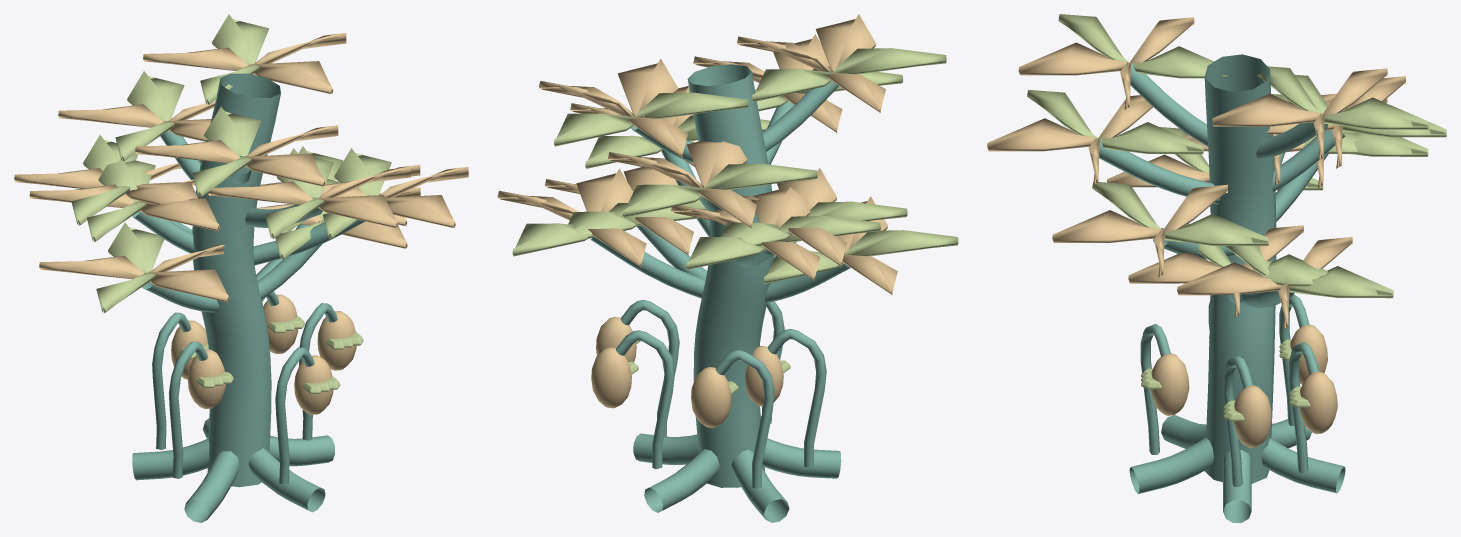
The model's file is bio_canopy_tree_23_far.glb.
The picture shows the model from 3 angles, left to right: view 1: azimuth 30°, elevation 25°; view 2: azimuth 150°, elevation 25°; view 3: azimuth 270°, elevation 25°; orthographic projection. The views are drawn at different scales.
Parts seen in each view (by area): view 1: Buttressed trunk, Broad canopy leaf.035, Broad canopy leaf.015, Broad canopy leaf.010, Broad canopy leaf.020, Broad canopy leaf.005, Broad canopy leaf.045, Broad canopy leaf.036, Broad canopy leaf.025, Broad canopy leaf.021, Broad canopy leaf.031, Broad canopy leaf.030 (+16 smaller); view 2: Buttressed trunk, Broad canopy leaf.035, Broad canopy leaf.015, Broad canopy leaf.030, Broad canopy leaf.016, Broad canopy leaf.031, Broad canopy leaf.036, Broad canopy leaf.040, Broad canopy leaf.005, Broad canopy leaf.006, Broad canopy leaf.021, Broad canopy leaf.046 (+17 smaller); view 3: Buttressed trunk, Broad canopy leaf.035, Broad canopy leaf.015, Broad canopy leaf.025, Broad canopy leaf.010, Broad canopy leaf.011, Broad canopy leaf.026, Broad canopy leaf.040, Broad canopy leaf.016, Broad canopy leaf.036, Broad canopy leaf, Broad canopy leaf.041 (+14 smaller).
Part boxes in pixels (x1=…): Buttressed trunk: x1=132, y1=73, x2=365, y2=522; Broad canopy leaf.035: x1=135, y1=125, x2=338, y2=186; Broad canopy leaf.015: x1=143, y1=33, x2=346, y2=93; Broad canopy leaf.010: x1=208, y1=166, x2=410, y2=227; Broad canopy leaf.020: x1=39, y1=244, x2=229, y2=302; Broad canopy leaf.005: x1=14, y1=160, x2=201, y2=204; Broad canopy leaf.045: x1=29, y1=179, x2=219, y2=231; Broad canopy leaf.036: x1=192, y1=107, x2=261, y2=197; Broad canopy leaf.025: x1=321, y1=166, x2=468, y2=227; Broad canopy leaf.021: x1=96, y1=222, x2=164, y2=312; Broad canopy leaf.031: x1=115, y1=71, x2=184, y2=161; Broad canopy leaf.030: x1=58, y1=100, x2=215, y2=141; Buttressed trunk: x1=590, y1=64, x2=850, y2=522; Broad canopy leaf.035: x1=737, y1=14, x2=885, y2=112; Broad canopy leaf.015: x1=539, y1=58, x2=687, y2=157; Broad canopy leaf.030: x1=608, y1=140, x2=756, y2=228; Broad canopy leaf.016: x1=554, y1=92, x2=748, y2=146; Broad canopy leaf.031: x1=623, y1=163, x2=817, y2=217; Broad canopy leaf.036: x1=752, y1=48, x2=946, y2=101; Broad canopy leaf.040: x1=497, y1=168, x2=646, y2=267; Broad canopy leaf.005: x1=671, y1=187, x2=820, y2=281; Broad canopy leaf.006: x1=686, y1=216, x2=880, y2=269; Broad canopy leaf.021: x1=763, y1=230, x2=958, y2=284; Broad canopy leaf.046: x1=720, y1=201, x2=907, y2=245; Buttressed trunk: x1=1099, y1=54, x2=1345, y2=522; Broad canopy leaf.035: x1=1018, y1=17, x2=1194, y2=109; Broad canopy leaf.015: x1=1212, y1=68, x2=1387, y2=160; Broad canopy leaf.025: x1=1052, y1=184, x2=1227, y2=277; Broad canopy leaf.010: x1=987, y1=95, x2=1152, y2=185; Broad canopy leaf.011: x1=1027, y1=89, x2=1203, y2=154; Broad canopy leaf.026: x1=1092, y1=182, x2=1268, y2=245; Broad canopy leaf.040: x1=1177, y1=237, x2=1352, y2=329; Broad canopy leaf.016: x1=1257, y1=66, x2=1428, y2=129; Broad canopy leaf.036: x1=1058, y1=14, x2=1227, y2=78; Broad canopy leaf: x1=1128, y1=225, x2=1303, y2=317; Broad canopy leaf.041: x1=1225, y1=246, x2=1393, y2=298.
Bounding box in the file's own units: 3.06 × 3.05 × 3.05.
